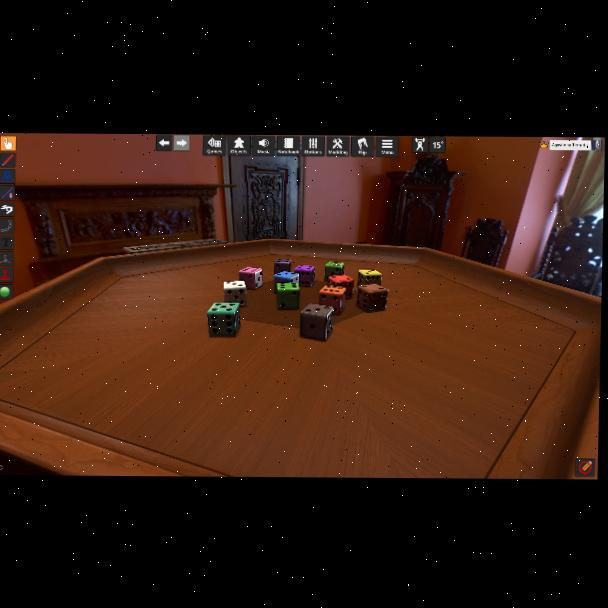d6: (206, 302, 240, 337), (299, 305, 330, 341), (357, 284, 388, 313), (318, 286, 345, 315), (327, 274, 354, 299), (223, 280, 248, 307), (277, 284, 300, 311), (238, 267, 262, 290), (274, 272, 298, 295), (294, 264, 314, 286), (358, 269, 382, 287), (325, 262, 345, 283), (273, 259, 291, 277)
